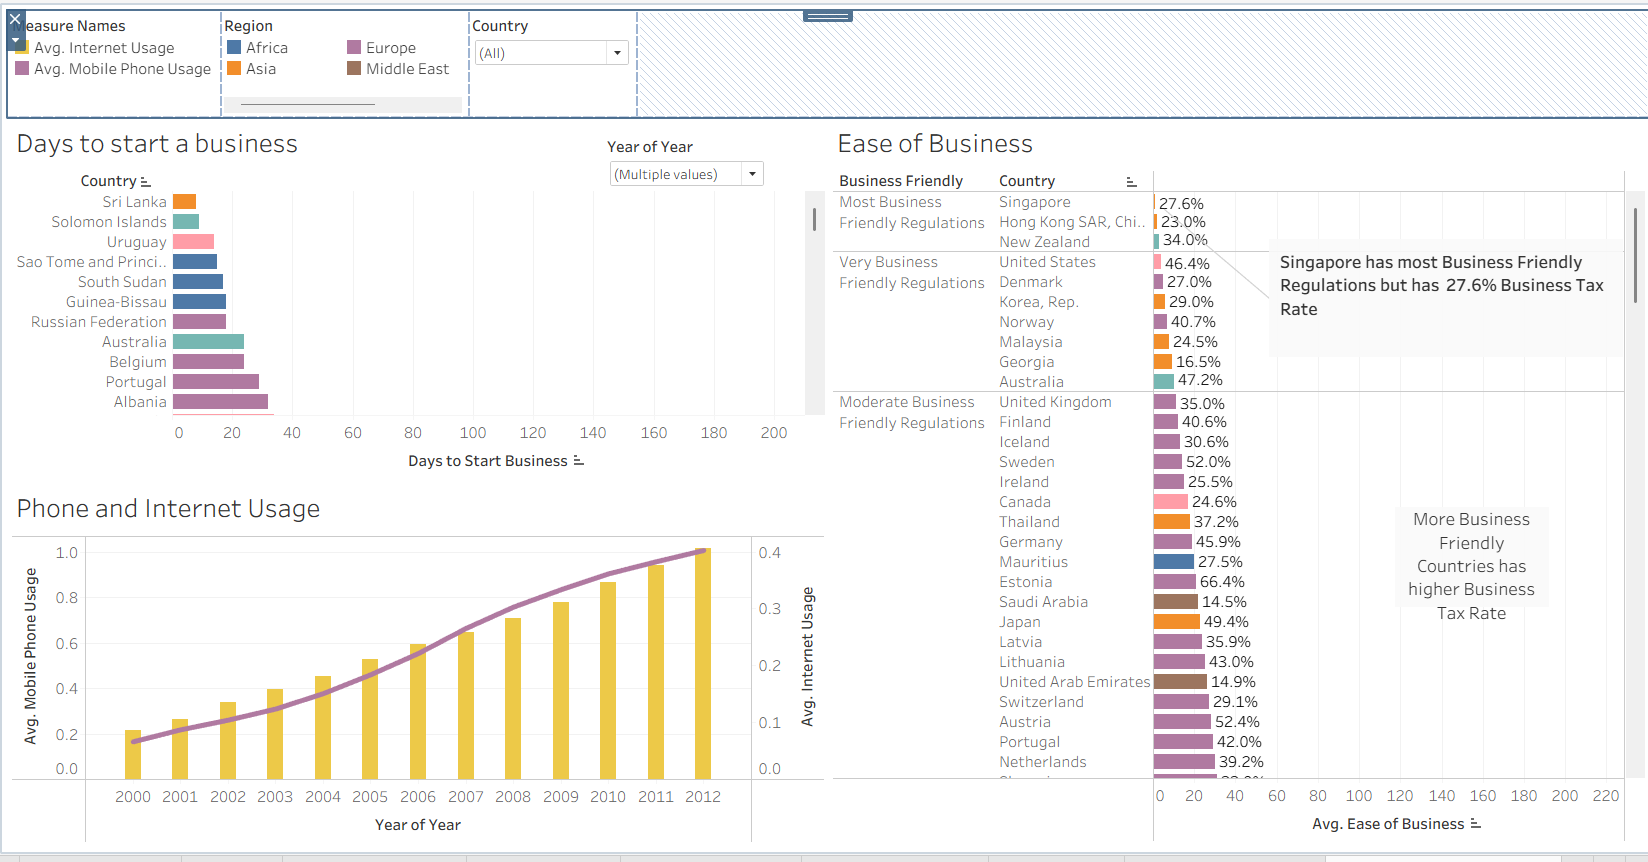

The dashboard page shown, as its layout file describes it:
{"tool":"tableau","page":{"name":"Ease of Business Dashboard","canvas":[1000,1000],"units":"permille","ordinal":0},"visuals":[{"type":"legend","title":"Phone and Internet Usage","param":"[federated.1vapjht150gv1h16s4dpv105fy5q].[:Measure Names]","box":[4.8,9.4,127.9,124.6]},{"type":"legend","title":"Days to start a business","param":"[federated.1vapjht150gv1h16s4dpv105fy5q].[none:Region:nk]","box":[132.8,9.4,149.7,124.6]},{"type":"filter","title":"Days to start a business","param":"[federated.1vapjht150gv1h16s4dpv105fy5q].[none:Country:nk]","box":[282.4,9.4,101.4,124.6]},{"type":"worksheet","title":"Days to start a business","mark":"Automatic","rows":["Country"],"cols":["Days to Start Business"],"box":[4.8,134,495.2,428.3]},{"type":"worksheet","title":"Ease of Business","mark":"Automatic","rows":["Calculation_1358722700304389","Country"],"cols":["Ease of Business"],"box":[500,134,495.2,856.6]},{"type":"filter","title":"Days to start a business","param":"[federated.1vapjht150gv1h16s4dpv105fy5q].[yr:Year:ok]","box":[366.3,156.3,96.6,62.3]},{"type":"worksheet","title":"Phone and Internet Usage","mark":"Automatic","rows":["Mobile Phone Usage","Internet Usage"],"cols":["Year"],"box":[4.8,562.3,495.2,428.3]}]}

Visuals, with their boxes on the dashboard's canvas, which has no fixed pixel size, in thousandths of its width and height (x1, y1, x2, y2). These are canvas units, not pixel positions in the 1648x862 screenshot, which may show the page scaled, cropped or inside an application window:
"Phone and Internet Usage" legend: [left=5, top=9, right=133, bottom=134]
"Days to start a business" legend: [left=133, top=9, right=282, bottom=134]
"Days to start a business" filter: [left=282, top=9, right=384, bottom=134]
"Days to start a business" worksheet: [left=5, top=134, right=500, bottom=562]
"Ease of Business" worksheet: [left=500, top=134, right=995, bottom=991]
"Days to start a business" filter: [left=366, top=156, right=463, bottom=219]
"Phone and Internet Usage" worksheet: [left=5, top=562, right=500, bottom=991]
